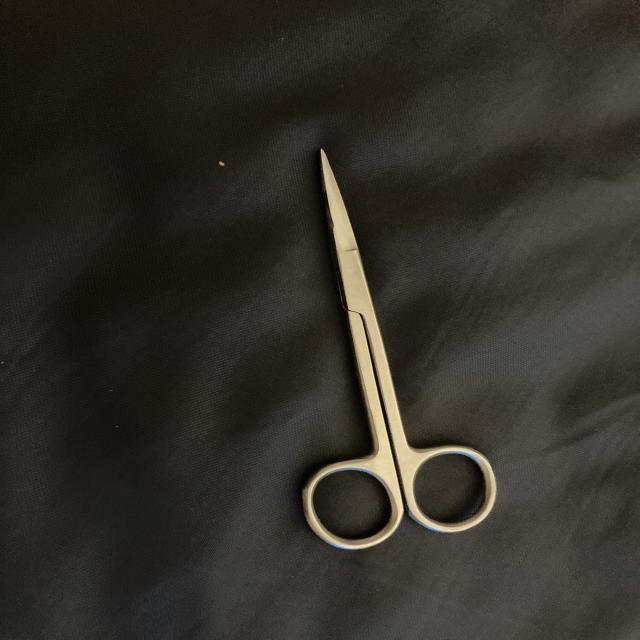scissor: (297, 142, 509, 554)
